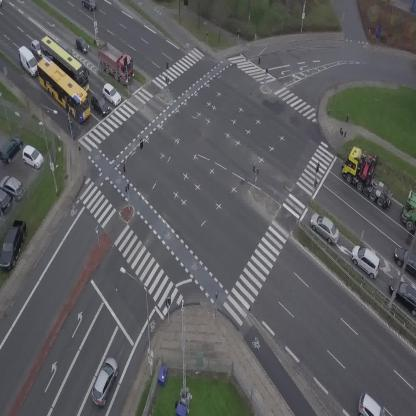bus: (29, 54, 100, 124), (32, 34, 98, 93)
car: (88, 356, 123, 407), (345, 242, 386, 280), (305, 210, 345, 246), (394, 247, 416, 279), (98, 81, 124, 107), (87, 91, 112, 118), (358, 393, 387, 416), (70, 34, 92, 56), (58, 39, 74, 54), (81, 0, 96, 10), (30, 40, 38, 57)
lorry: (333, 142, 409, 211), (88, 37, 142, 88), (12, 43, 43, 80), (402, 192, 416, 231)
